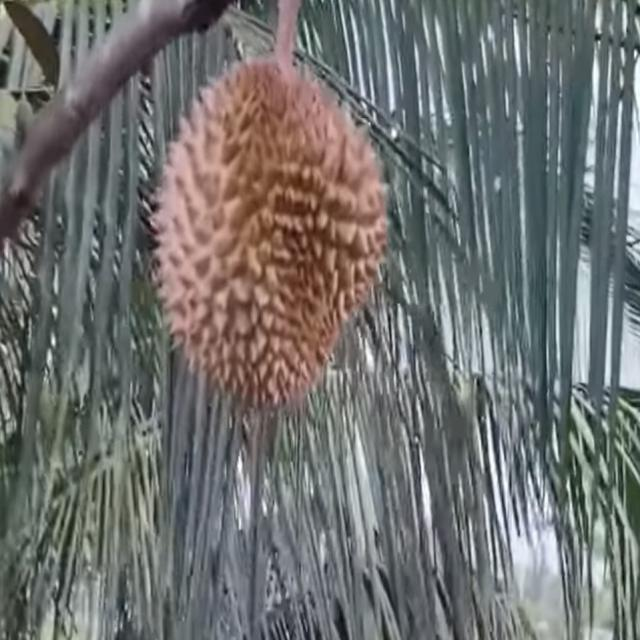mature: (149, 58, 392, 414)
